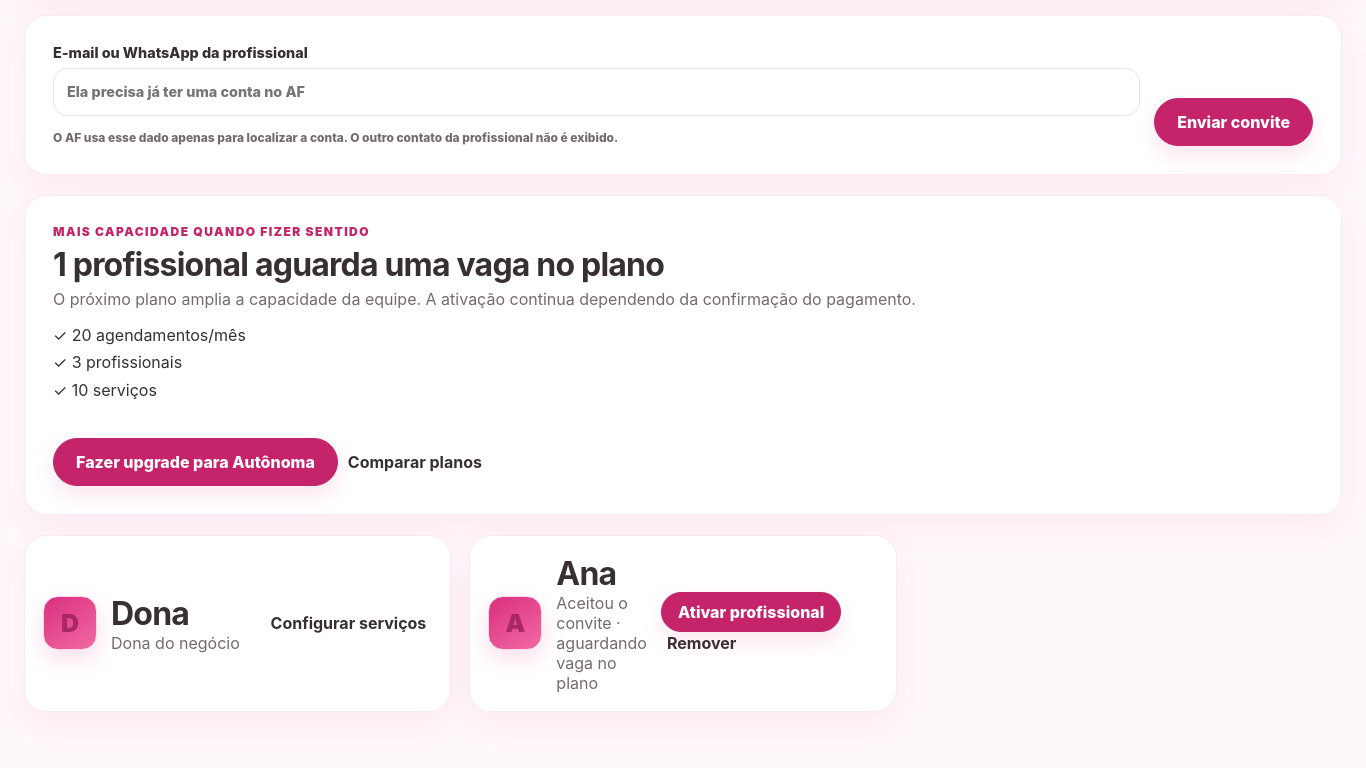
Scenario: equipe por convite › CA-EQP-02: mostra profissional aguardando vaga e permite ativar após capacidade
(page scrolled)
Expected: the text "Aceitou o convite · aguardando vaga no plano" is shown, [556,593,647,693]
Expected: the button "Configurar serviços" is shown, [264,612,432,634]
Click the button "Ativar profissional".
click(751, 612)  # box [661,592,841,632]
(page scrolled)
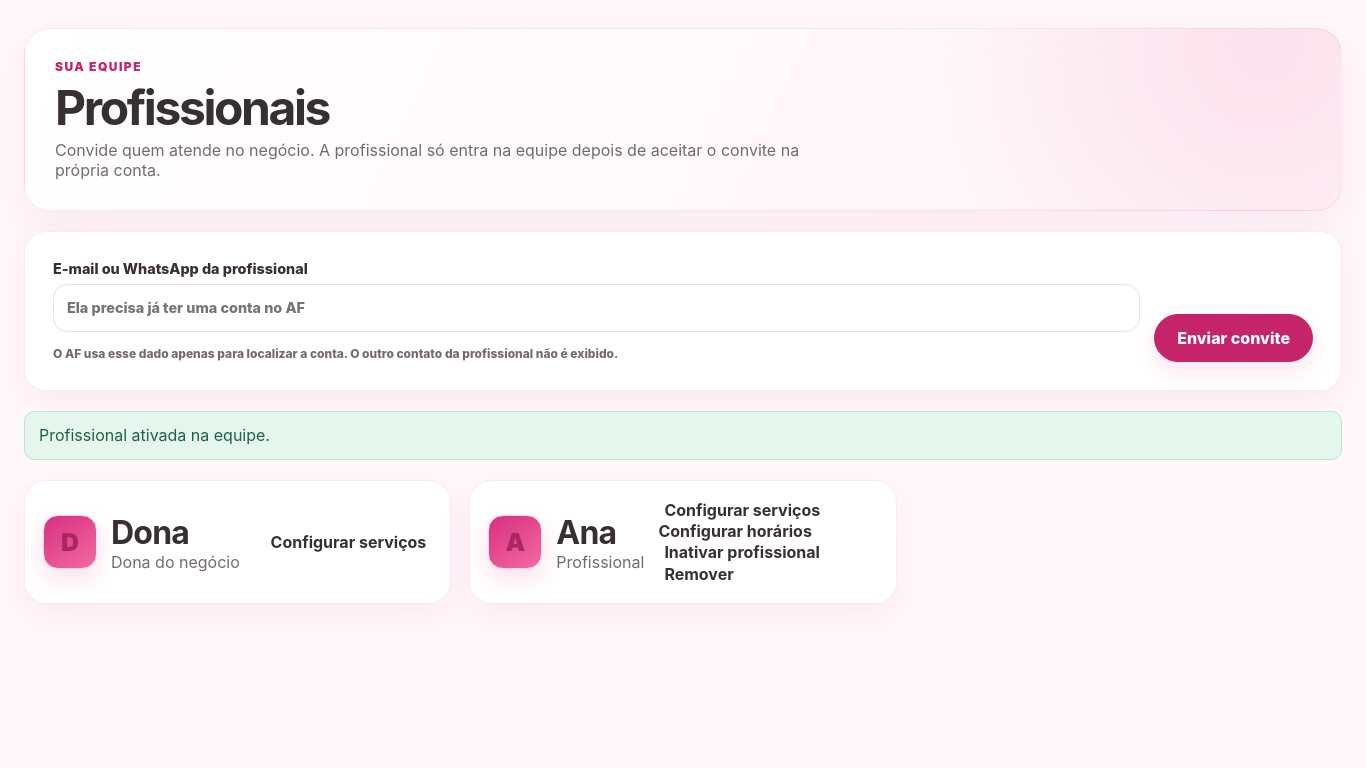
Now the text "Profissional ativada na equipe." is shown, box [24,411,1342,460]
Now the text "aguardando vaga no plano" is gone
